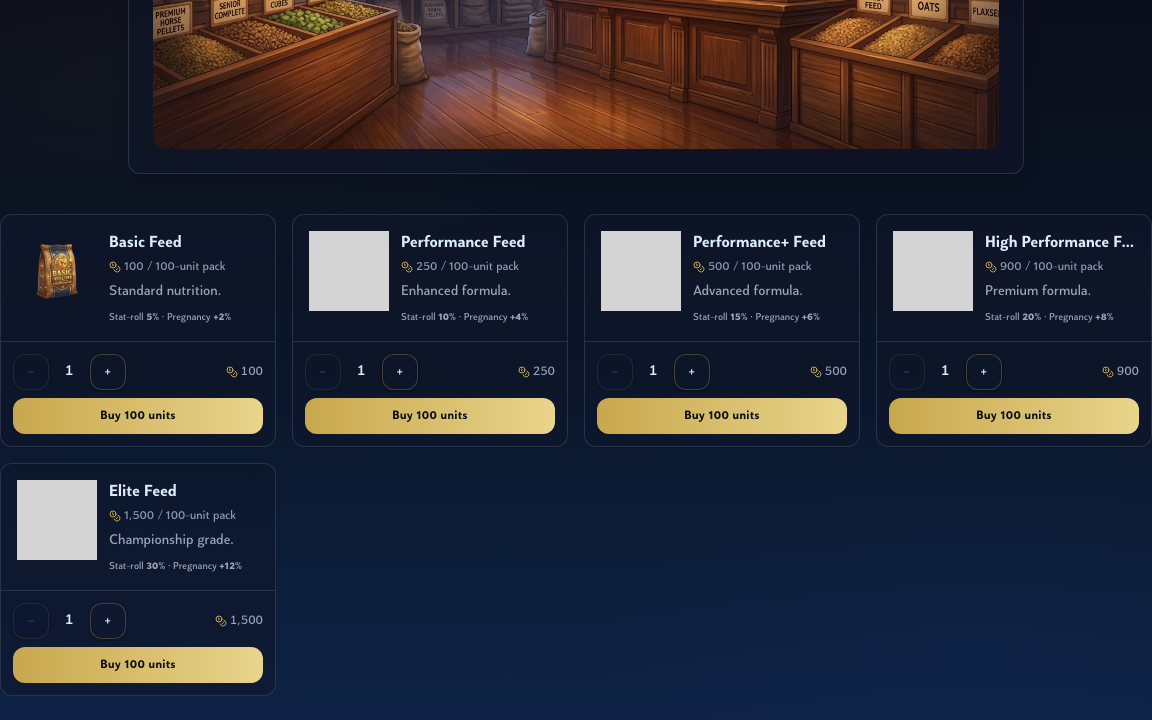
Test case: FeedShopPage — smoke › pack stepper increments the count
This screenshot has width=1152, height=720.
(page scrolled)
Expected: the text with test id "pack-count-basic" reads "1", [65,364,74,379]
Step 1. Click the button with test id "pack-increment-basic" → (108, 372), box [90,354,126,390]
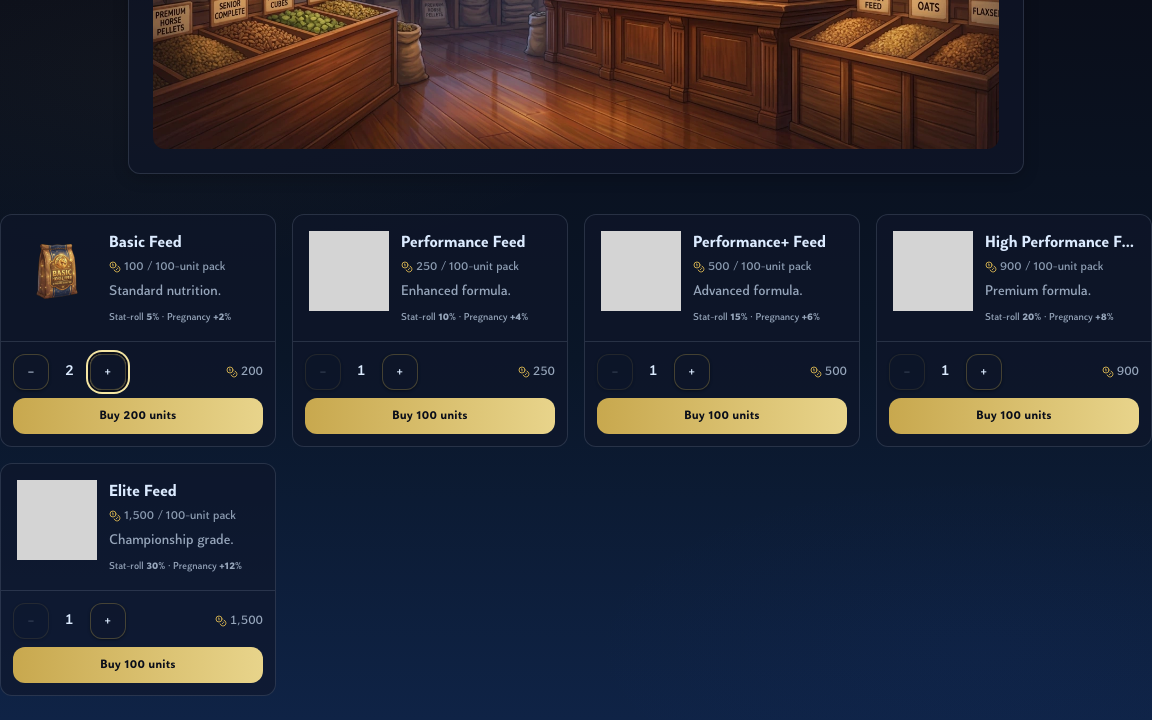
Now the text with test id "pack-count-basic" reads "2", box [65,364,74,379]
